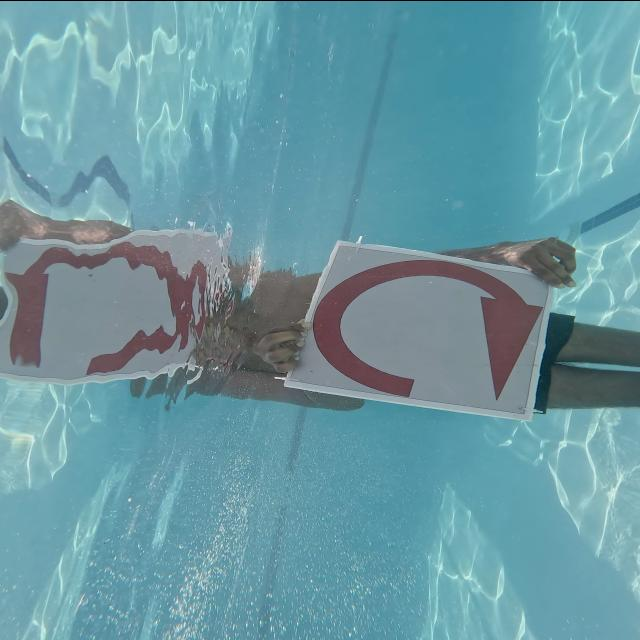red_side: (279, 258, 557, 410)
